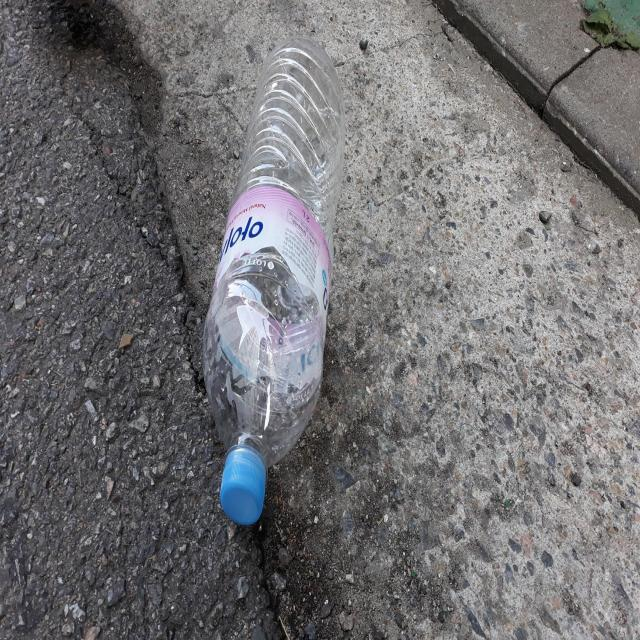plastic: (203, 37, 345, 524)
